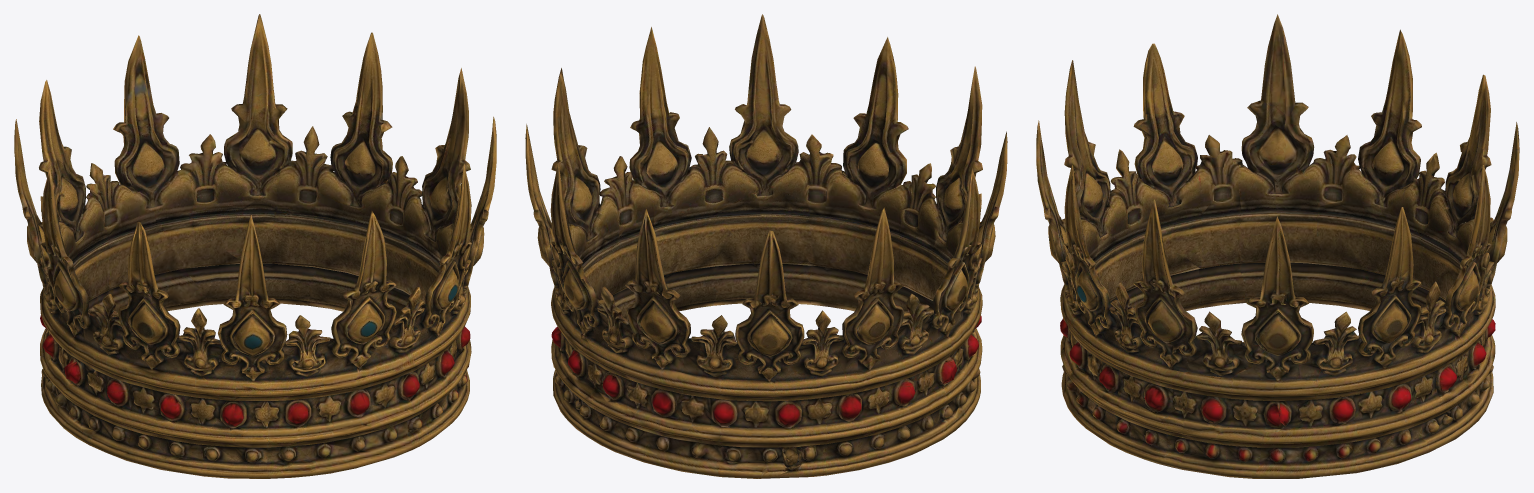
Rendered from giant-crown.glb.
3 views of the same model, side by side, from view 1: azimuth 30°, elevation 25°; view 2: azimuth 150°, elevation 25°; view 3: azimuth 270°, elevation 25° (orthographic).
Bounding box in the file's own units: 1.9 × 1.2 × 1.9.
Materials: 1 (1 with a texture image).
